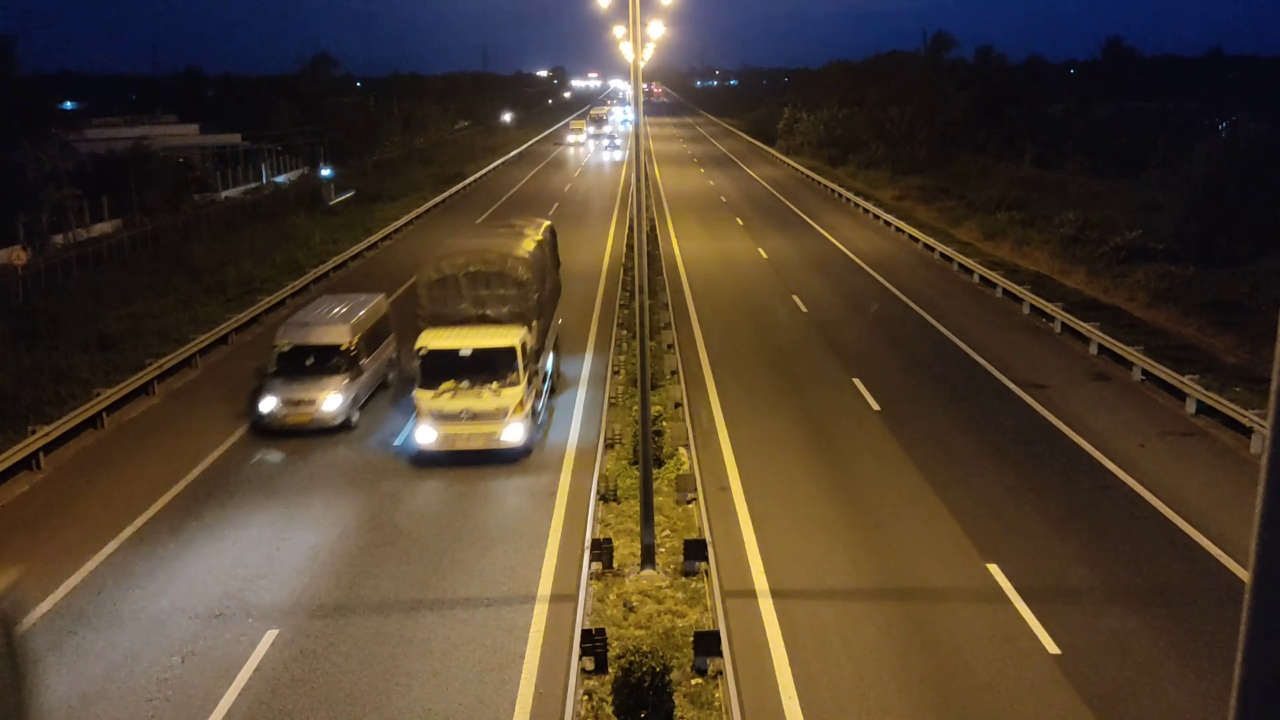car: (254, 285, 397, 440)
truck: (410, 215, 565, 465)
